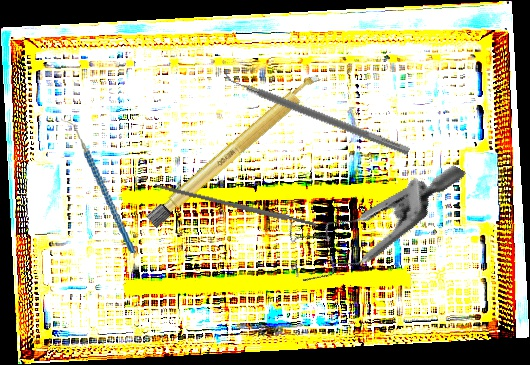Chopper: (61, 112, 136, 260)
Scalpel Handle: (145, 70, 325, 229), (153, 182, 317, 229)
Spatula Surgical: (218, 67, 414, 156)
Speculum: (268, 108, 467, 325)
